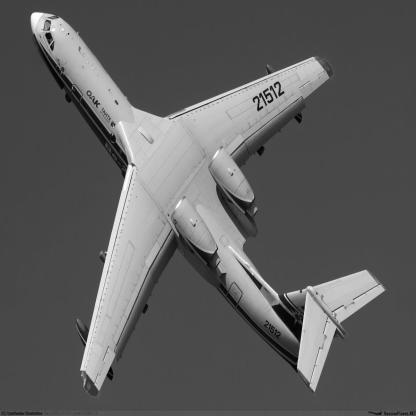Be200: (31, 12, 389, 400)
